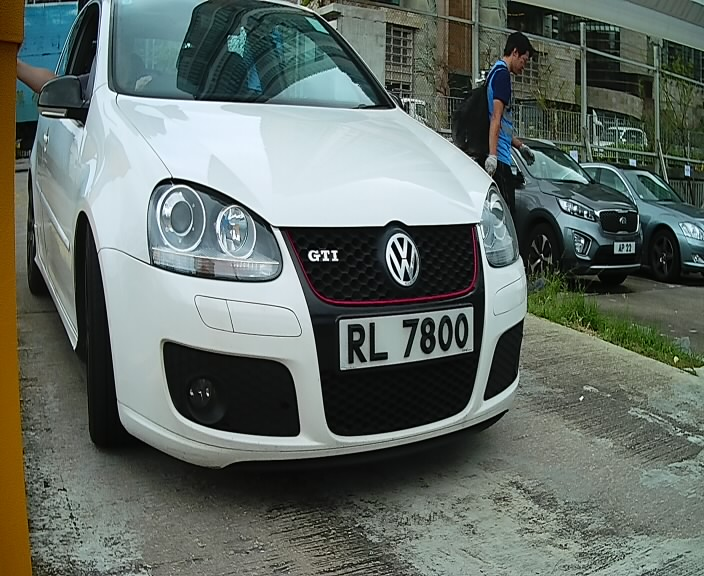Car: (3, 3, 546, 498)
License Plate: (333, 304, 484, 376)
